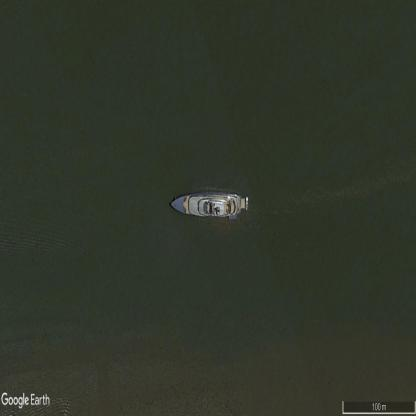ship: (169, 192, 245, 218), (246, 194, 248, 211)
